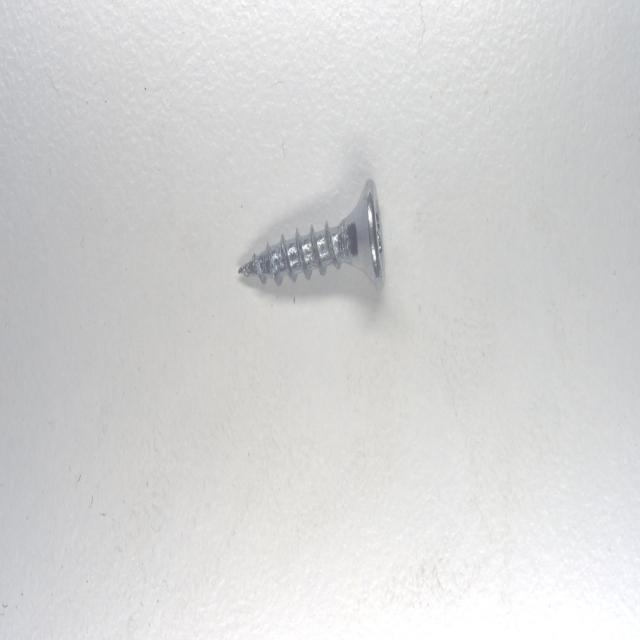Screw: (238, 176, 386, 294)
